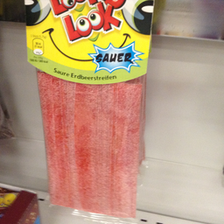candy: (30, 3, 150, 217)
